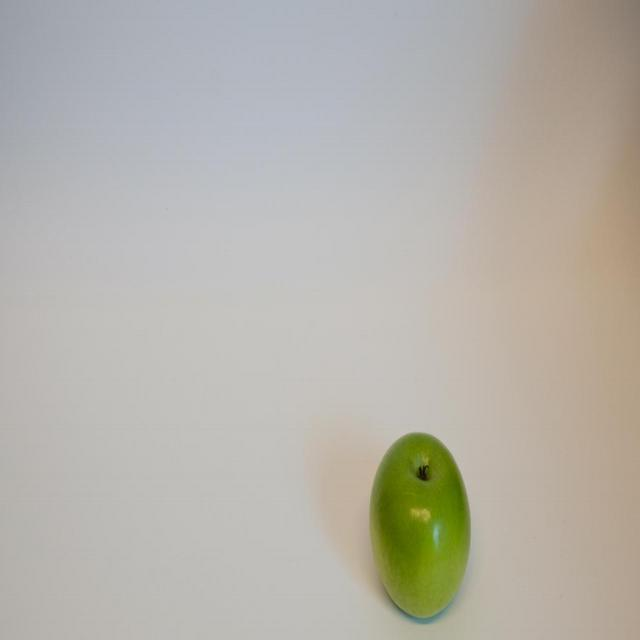apple: (371, 420, 474, 621)
